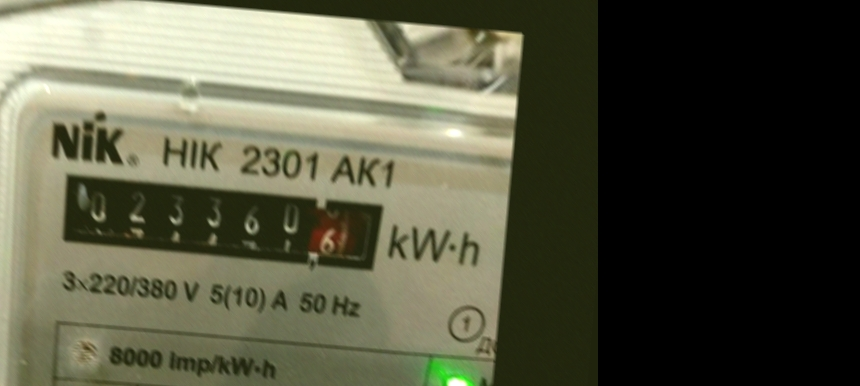0: (83, 186, 108, 223), (276, 199, 301, 236)
2: (123, 187, 147, 224)
3: (162, 191, 185, 227), (201, 193, 222, 229)
6: (238, 200, 261, 235), (314, 221, 335, 256)
screen: (43, 160, 401, 289)
